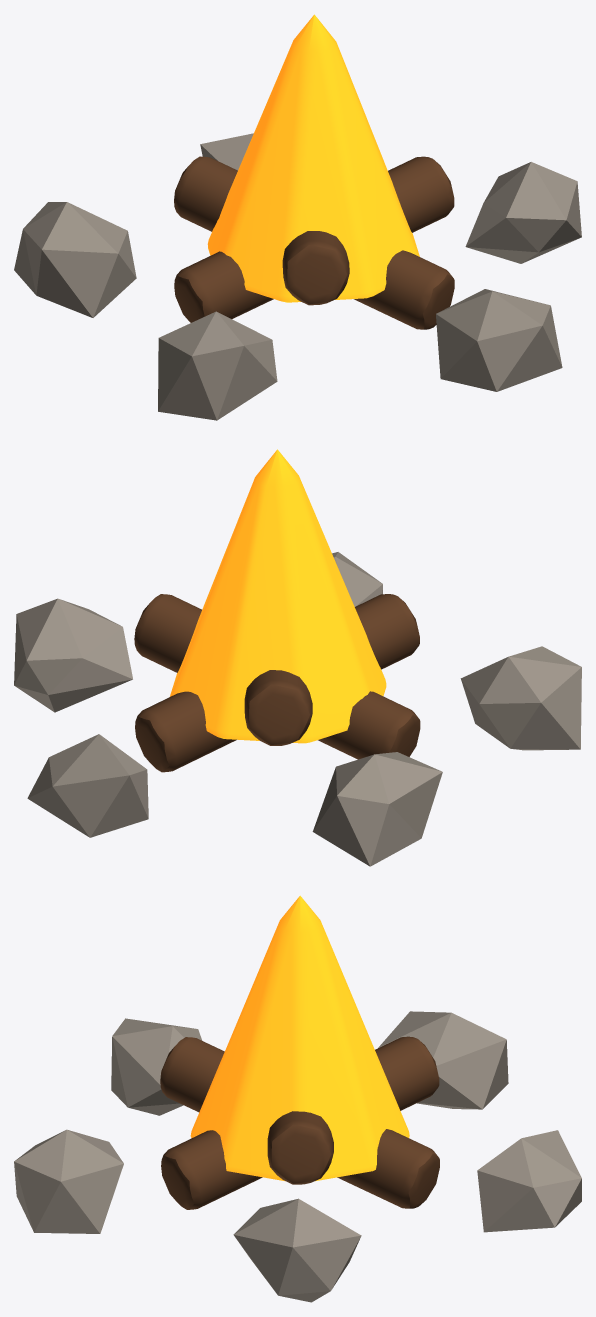
The model's file is prop_campfire.glb.
3 renders of one model, top to bottom at view 1: azimuth 30°, elevation 25°; view 2: azimuth 150°, elevation 25°; view 3: azimuth 270°, elevation 25°, orthographic. The views are drawn at different scales.
Visible parts, largest first — view 1: FlameOuter, camp_rock4, camp_rock2, camp_rock3, camp_rock0, camp_log1, camp_log0, camp_log2, camp_rock1; view 2: FlameOuter, camp_rock2, camp_rock0, camp_rock3, camp_rock1, camp_log2, camp_log0, camp_log1, camp_rock4; view 3: FlameOuter, camp_rock4, camp_rock0, camp_rock1, camp_log2, camp_log1, camp_rock2, camp_rock3, camp_log0.
Boxes of the visible parts, bbox=[...] form: FlameOuter: bbox=[207, 14, 419, 302]; camp_rock4: bbox=[436, 289, 562, 391]; camp_rock2: bbox=[14, 202, 136, 317]; camp_rock3: bbox=[158, 311, 277, 420]; camp_rock0: bbox=[465, 162, 581, 263]; camp_log1: bbox=[174, 156, 454, 329]; camp_log0: bbox=[174, 156, 454, 322]; camp_log2: bbox=[282, 231, 349, 305]; camp_rock1: bbox=[200, 133, 253, 170]; FlameOuter: bbox=[170, 449, 386, 743]; camp_rock2: bbox=[312, 752, 442, 866]; camp_rock0: bbox=[14, 598, 132, 712]; camp_rock3: bbox=[460, 646, 581, 750]; camp_rock1: bbox=[27, 734, 148, 837]; camp_log2: bbox=[135, 594, 419, 772]; camp_log0: bbox=[134, 594, 420, 759]; camp_log1: bbox=[244, 670, 312, 745]; camp_rock4: bbox=[332, 552, 382, 606]; FlameOuter: bbox=[190, 895, 409, 1181]; camp_rock4: bbox=[14, 1129, 123, 1233]; camp_rock0: bbox=[233, 1198, 361, 1302]; camp_rock1: bbox=[477, 1130, 581, 1232]; camp_log2: bbox=[160, 1037, 439, 1208]; camp_log1: bbox=[161, 1036, 439, 1209]; camp_rock2: bbox=[378, 1011, 508, 1109]; camp_rock3: bbox=[111, 1018, 201, 1115]; camp_log0: bbox=[267, 1111, 333, 1184].
Bounding box in the file's own units: 0.9287 × 0.558 × 0.9448.
